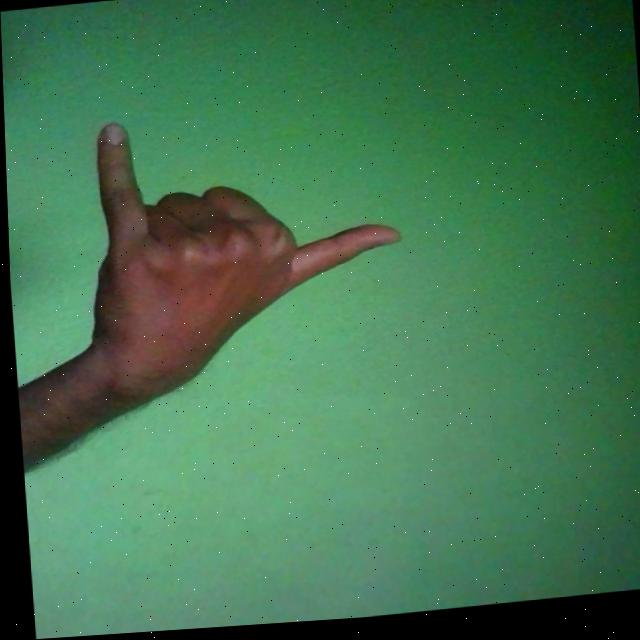Call Me: (70, 98, 409, 416)
